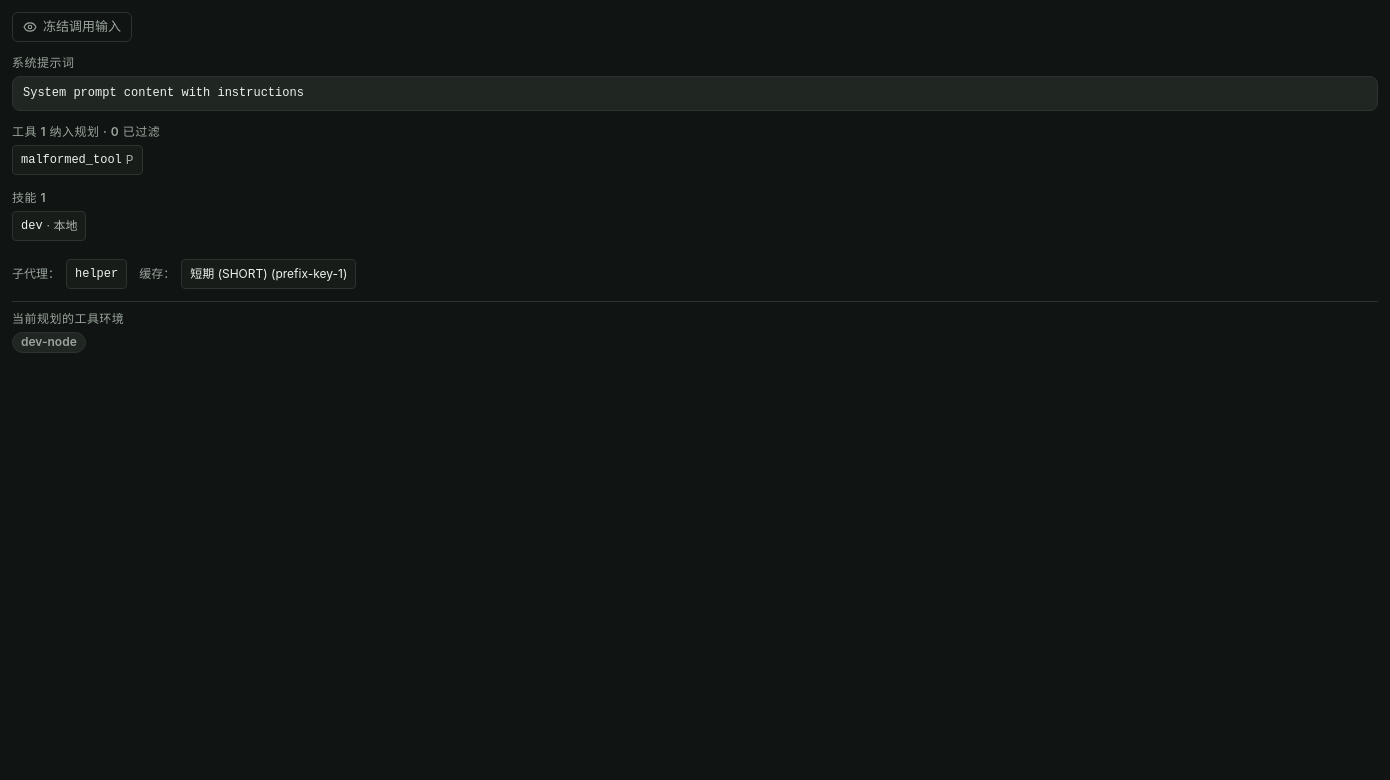
Test case: ThreadModelRequestDebug & Inspector › handles invalid json gracefully in tool inspector schema display
Click the button with aria-label "工具 malformed_tool". click: (77, 160)
box: [12,145,142,175]
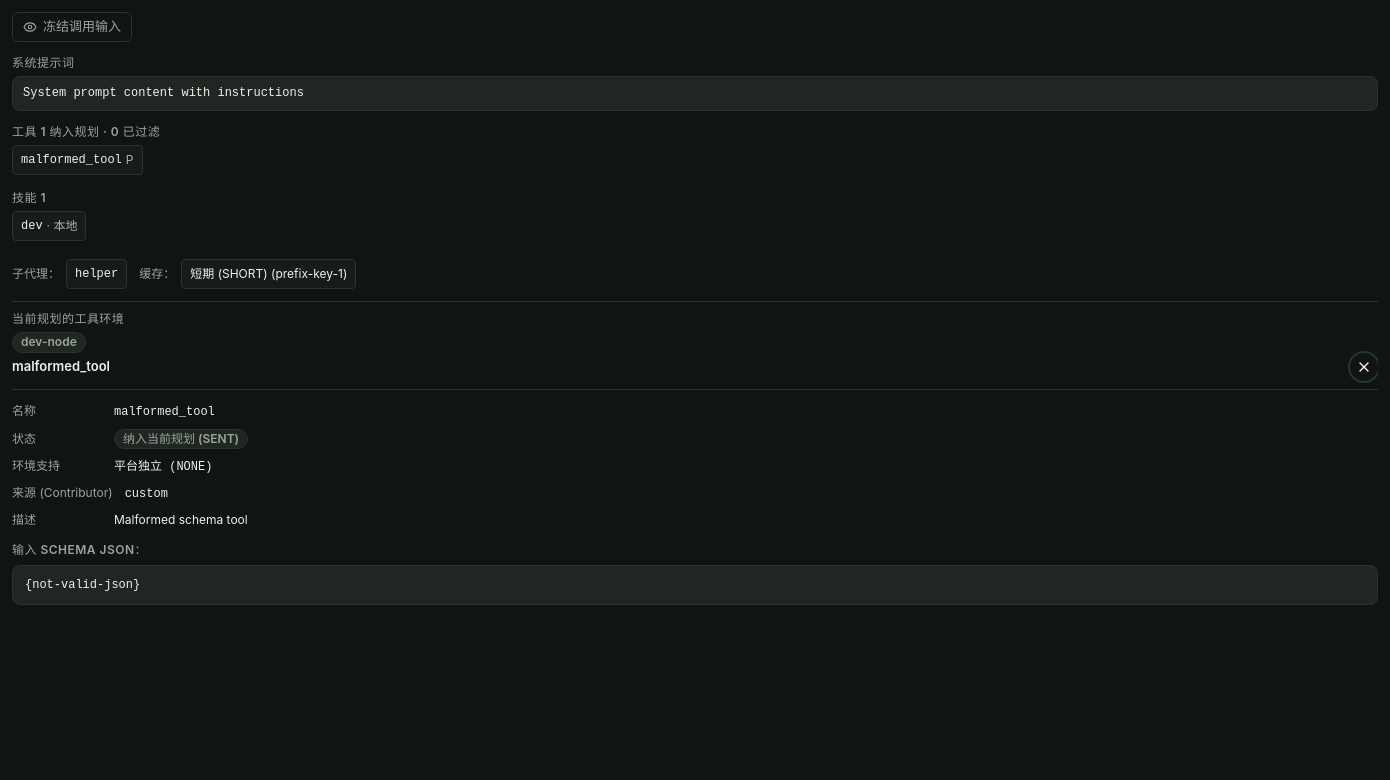
expect the text "{not-valid-json}" is shown: met, box [12,565,1378,605]
